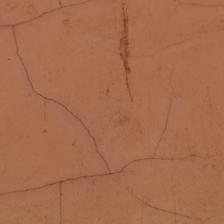Crack: (11, 2, 211, 101), (78, 5, 125, 109), (132, 0, 157, 79), (27, 93, 113, 109), (78, 47, 102, 99)
